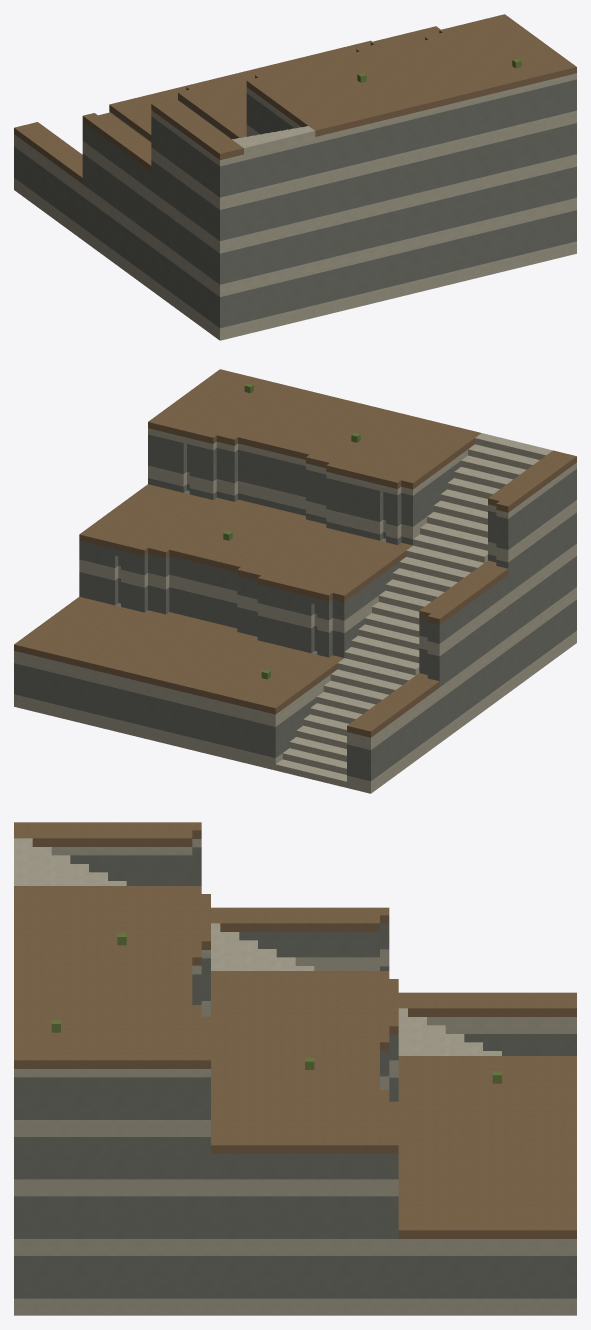
The picture shows the model from 3 angles, top to bottom: view 1: azimuth 30°, elevation 25°; view 2: azimuth 150°, elevation 25°; view 3: azimuth 270°, elevation 25°; orthographic projection. The views are drawn at different scales.
Visible parts, largest first — view 1: 既有建筑群肩坡过渡组件; view 2: 既有建筑群肩坡过渡组件; view 3: 既有建筑群肩坡过渡组件.
Part boxes in pixels (x1,y1,x2,y2): 既有建筑群肩坡过渡组件: (14, 14, 576, 340); 既有建筑群肩坡过渡组件: (14, 369, 576, 793); 既有建筑群肩坡过渡组件: (14, 822, 576, 1315).
Size of the model in its own units: 12 by 6.2 by 12.
Materials: 4 (4 with a texture image).
